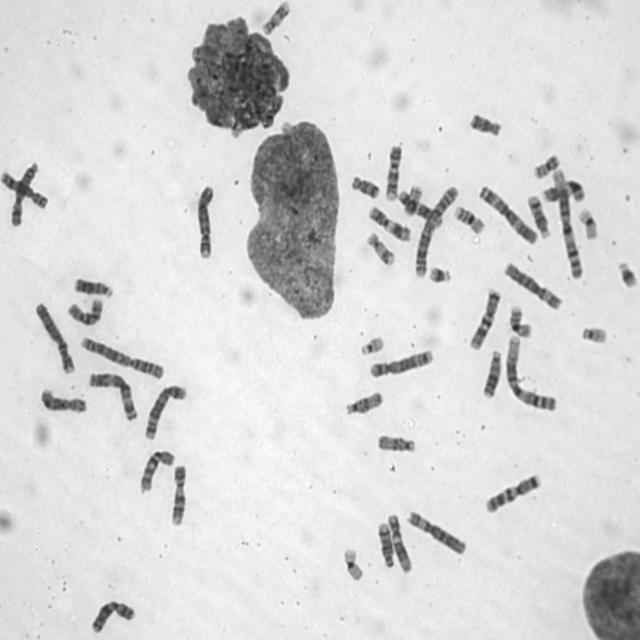A1: (503, 332, 559, 412), (550, 167, 584, 280)
A2: (413, 182, 460, 279), (77, 332, 165, 380)
A3: (476, 180, 539, 247), (86, 369, 139, 423)
B4: (32, 298, 76, 377), (194, 180, 216, 262)
B5: (141, 381, 188, 442), (368, 345, 436, 379)
C10: (137, 446, 177, 495), (64, 295, 105, 327)
C11: (366, 202, 412, 243), (540, 177, 586, 205)
C12: (396, 186, 444, 228), (386, 510, 413, 574)
C6: (501, 258, 563, 311), (404, 507, 468, 557)
C7: (482, 469, 544, 515), (467, 286, 502, 350)
C8: (8, 159, 42, 228), (0, 168, 49, 212)
C9: (168, 461, 188, 528), (382, 142, 403, 203)
D13: (481, 346, 504, 398), (72, 274, 115, 300)
D14: (525, 192, 552, 240), (376, 520, 396, 569)
D15: (342, 388, 384, 416), (375, 431, 418, 455)
E16: (452, 202, 486, 236), (508, 302, 534, 339)
E17: (262, 0, 294, 37), (365, 229, 396, 267)
E18: (467, 109, 503, 139), (348, 172, 382, 201)
F19: (341, 544, 365, 583), (575, 205, 600, 242)
F20: (530, 151, 562, 180), (400, 181, 424, 217)
G21: (615, 258, 639, 290), (426, 261, 453, 285)
G22: (578, 322, 609, 345), (357, 332, 386, 356)
X: (88, 596, 137, 634), (37, 384, 89, 416)
